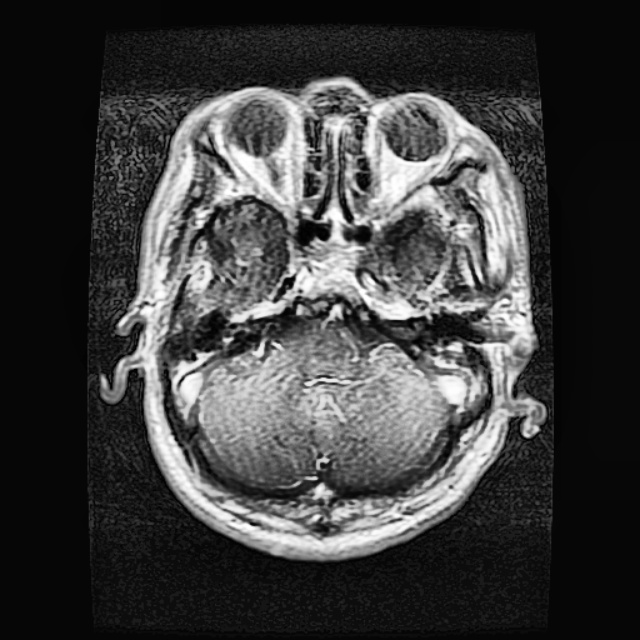Pituitary: (184, 239, 217, 288)
